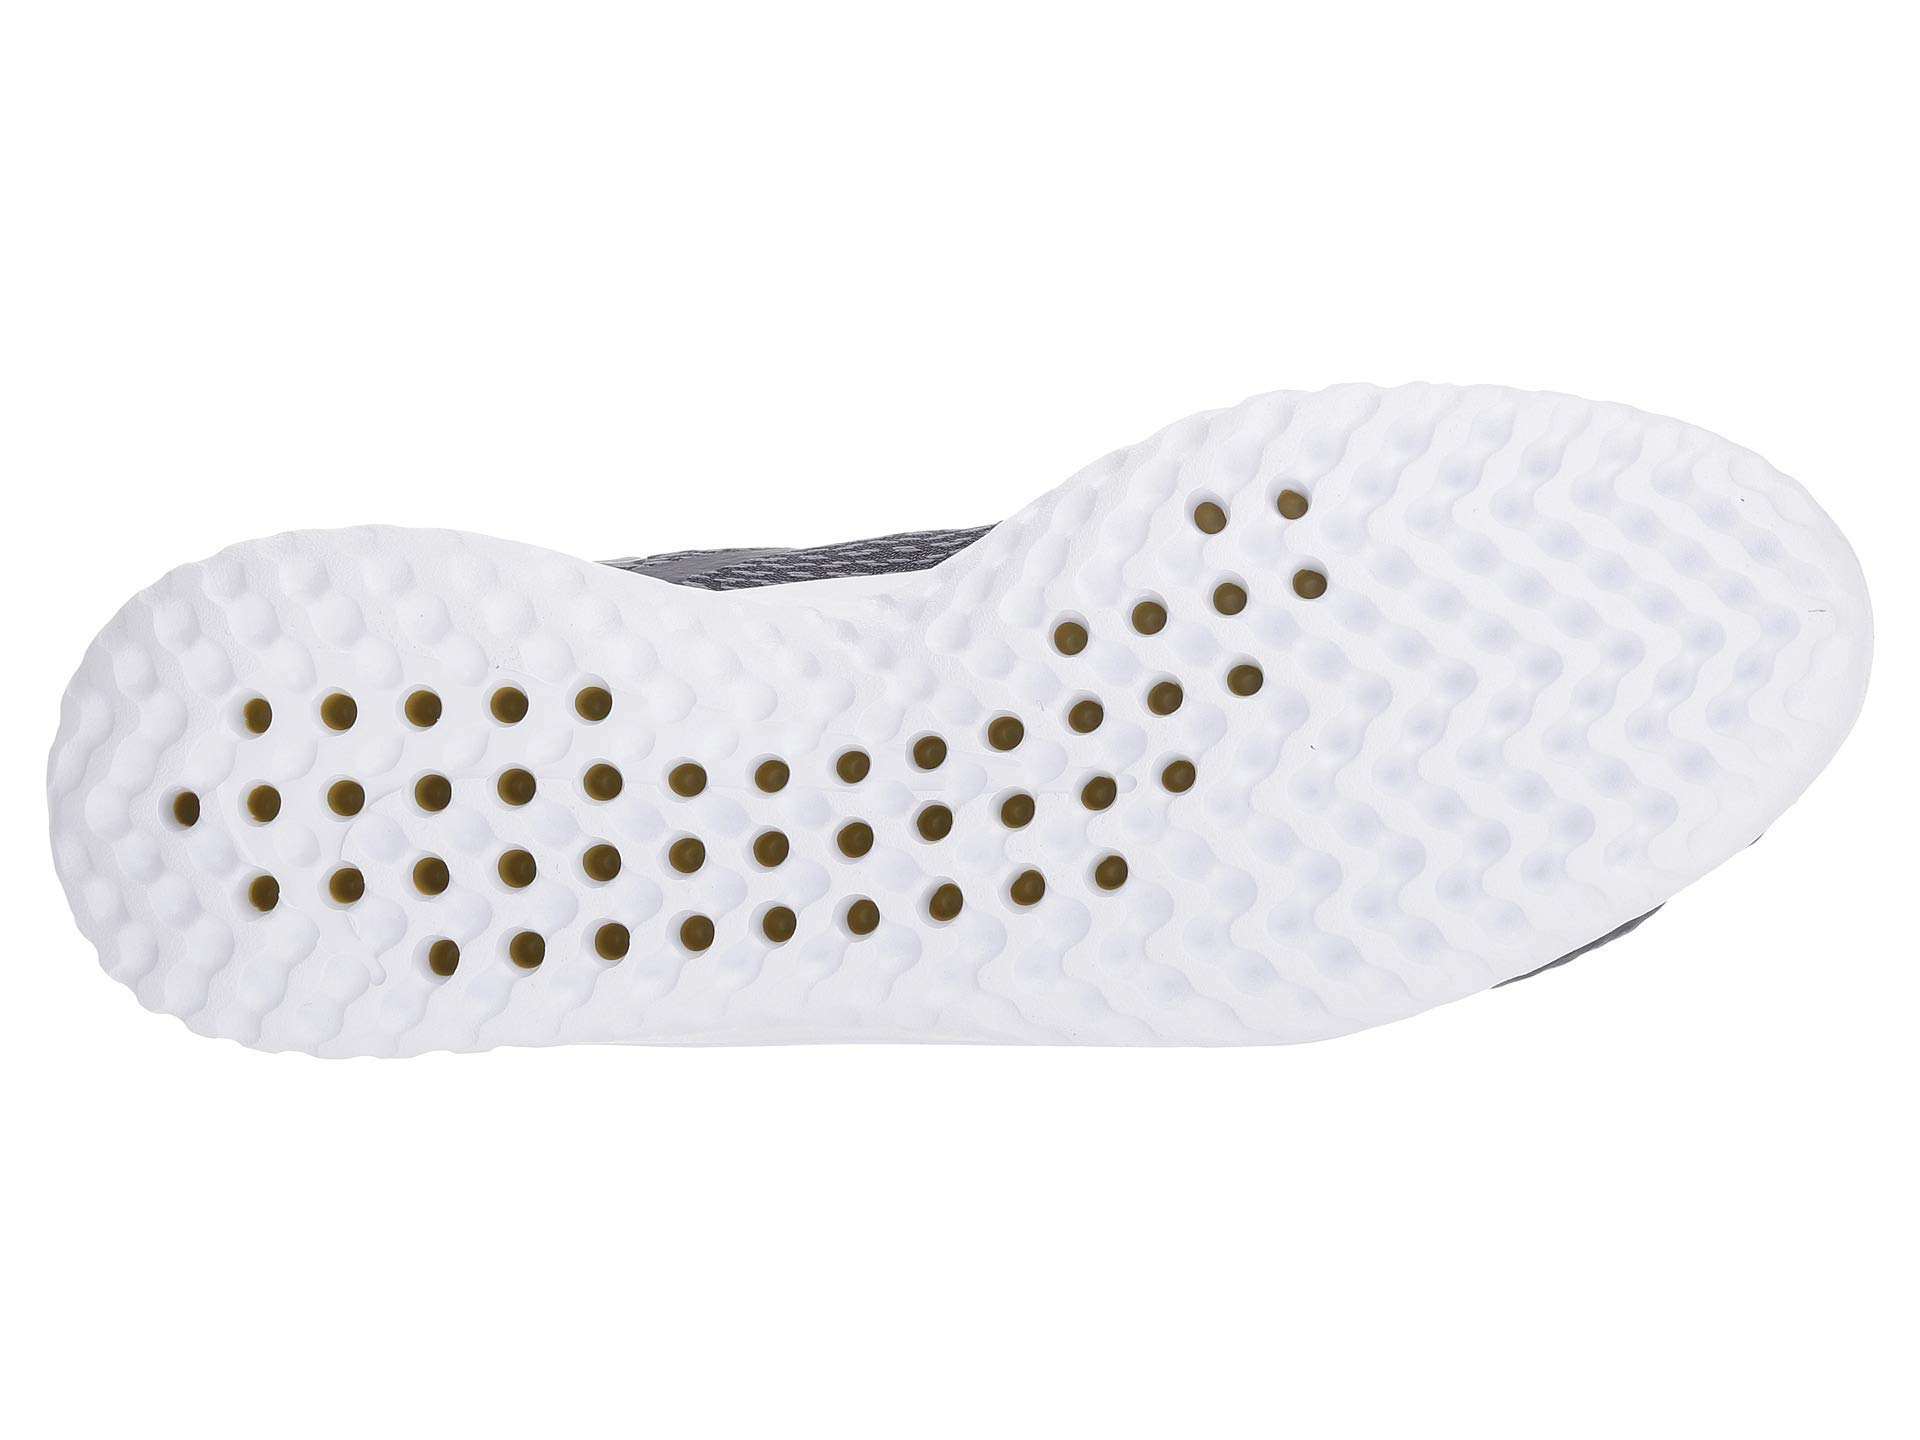chevron: (1281, 436, 1757, 889), (178, 620, 694, 1035)
circle: (1281, 436, 1757, 889), (178, 620, 694, 1035)
